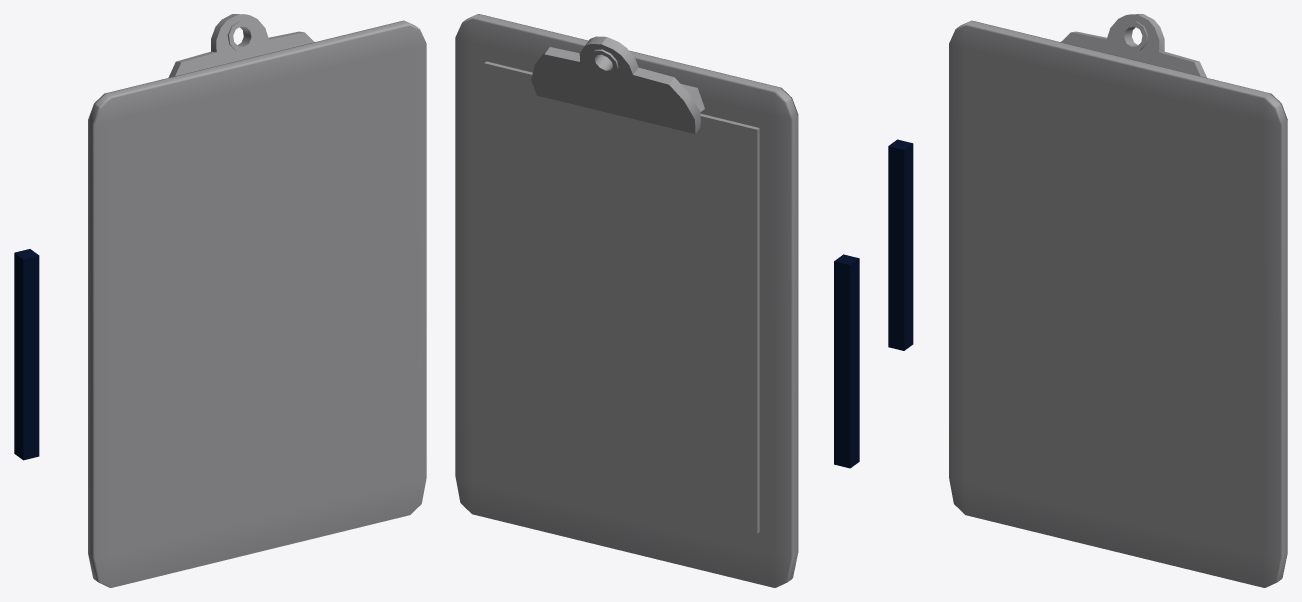
The model's file is Clipboard.obj.
3 renders of one model, left to right at view 1: azimuth 30°, elevation 25°; view 2: azimuth 150°, elevation 25°; view 3: azimuth 330°, elevation 25°, orthographic.
Visible parts, largest first — view 1: Handle, Pen; view 2: Handle, Pen; view 3: Handle, Pen.
Part boxes in pixels (bbox=[...]): Handle: bbox=[88, 14, 426, 587]; Pen: bbox=[14, 249, 39, 460]; Handle: bbox=[455, 14, 798, 587]; Pen: bbox=[834, 254, 859, 468]; Handle: bbox=[949, 14, 1287, 587]; Pen: bbox=[888, 139, 913, 350].
Bounding box in the file's own units: 1.25 × 1.56 × 0.1552.
